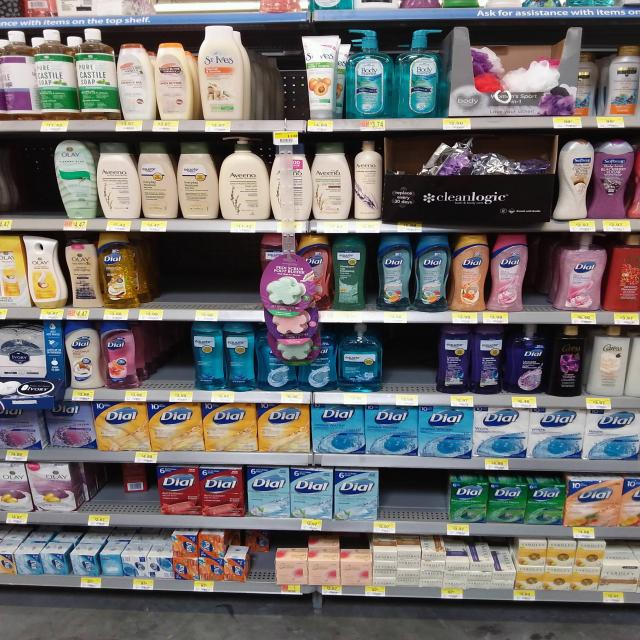empty: (249, 40, 307, 119), (136, 240, 199, 309), (5, 143, 63, 217), (380, 321, 436, 393), (202, 237, 255, 309), (140, 326, 192, 388), (384, 472, 447, 523), (525, 240, 558, 308), (247, 538, 277, 584)
